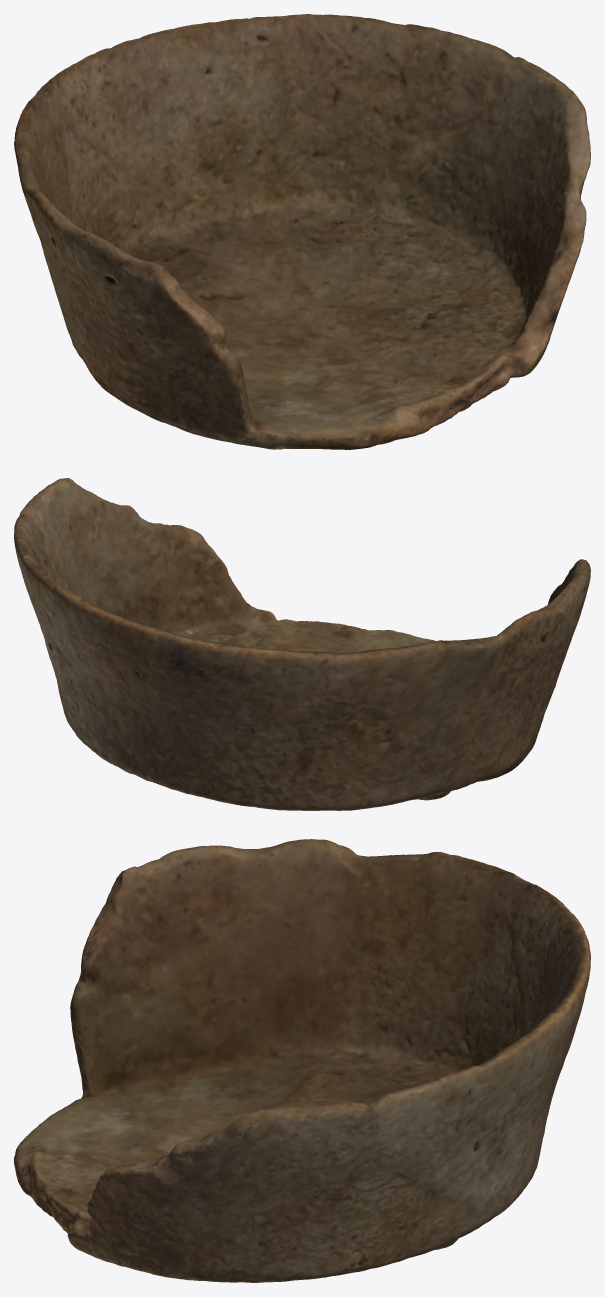
3 views of the same model, one above another, from view 1: azimuth 30°, elevation 25°; view 2: azimuth 150°, elevation 25°; view 3: azimuth 270°, elevation 25° (orthographic). The views are drawn at different scales.
Parts seen in each view (by area): view 1: Mesh_0.003; view 2: Mesh_0.003; view 3: Mesh_0.003.
Part boxes in pixels (x1,y1,x2,y2): Mesh_0.003: [14, 14, 590, 449]; Mesh_0.003: [14, 478, 590, 810]; Mesh_0.003: [14, 839, 590, 1282].
Size of the model in its own units: 0.2356 by 0.1014 by 0.2087.
Materials: 1 (1 with a texture image).
